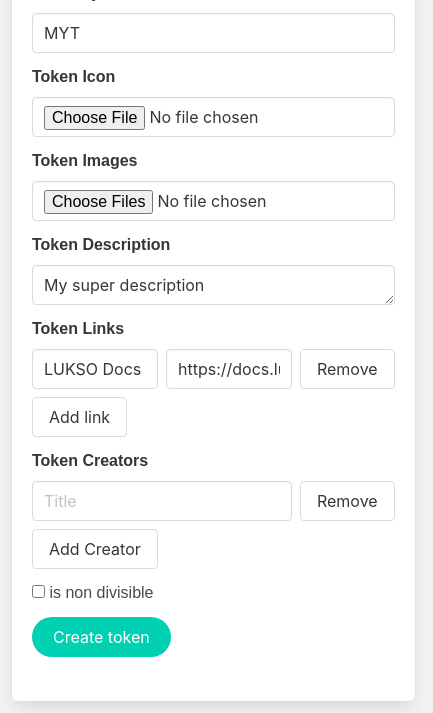
can create token
(page scrolled)
Click the button with test id "create" at (101, 637), box [32, 617, 171, 657]
(page scrolled)
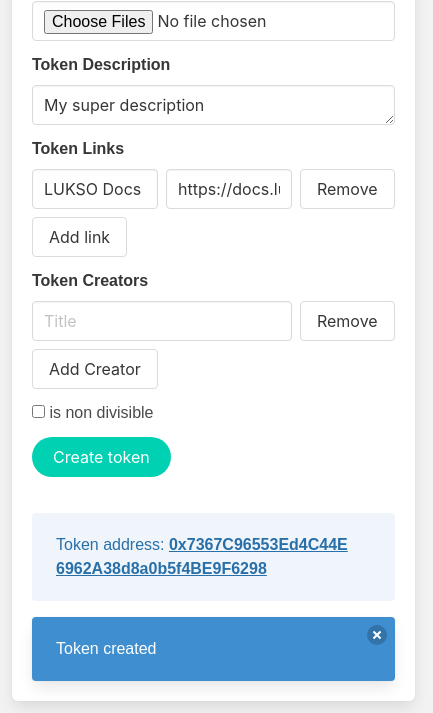
Result: the element with test id "notification" reads "Token created" at [56, 640, 156, 657]
Result: the link with test id "token-address" reads "0x7367C96553Ed4C44E6962A38d8a0b5f4BE9F6298" at [56, 536, 348, 577]
